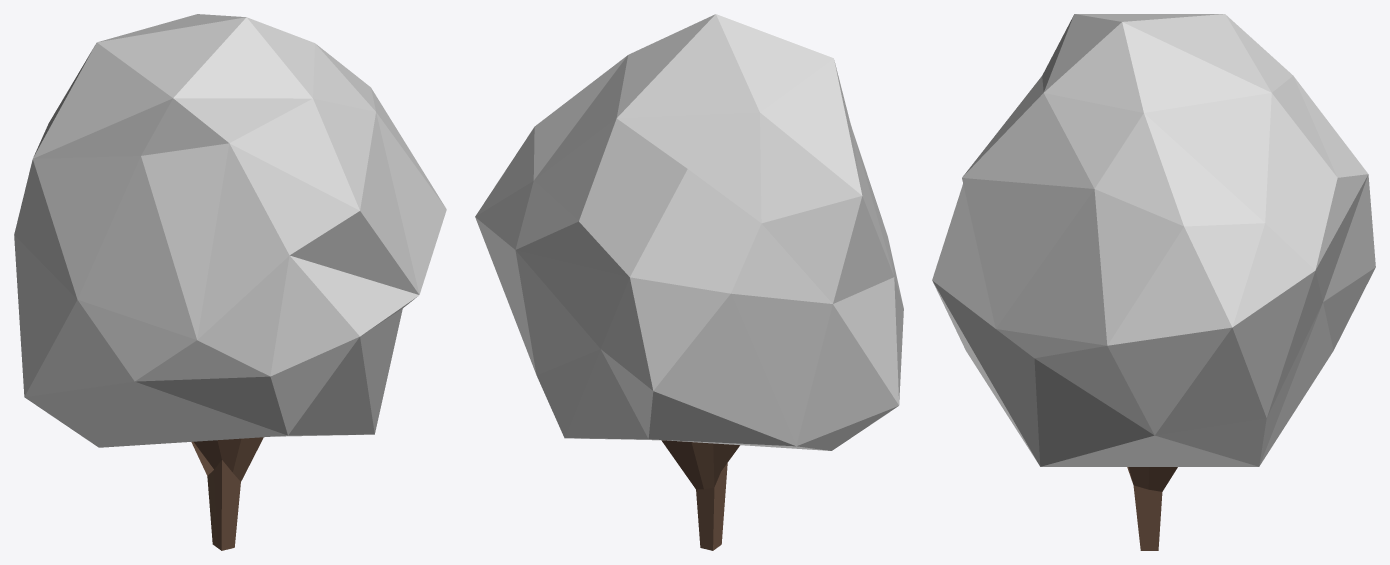
Rendered from Tree_21_White.fbx.
The picture shows the model from 3 angles, left to right: view 1: azimuth 30°, elevation 25°; view 2: azimuth 150°, elevation 25°; view 3: azimuth 270°, elevation 25°; orthographic projection. The views are drawn at different scales.
Parts seen in each view (by area): view 1: Tree_21_White_Part_1, Tree_21_White_Part_2; view 2: Tree_21_White_Part_1, Tree_21_White_Part_2; view 3: Tree_21_White_Part_1, Tree_21_White_Part_2.
Boxes of the visible parts, left/top/right/bottom form: Tree_21_White_Part_1: left=14, top=14, right=446, bottom=447; Tree_21_White_Part_2: left=191, top=437, right=263, bottom=550; Tree_21_White_Part_1: left=475, top=14, right=903, bottom=450; Tree_21_White_Part_2: left=661, top=440, right=739, bottom=550; Tree_21_White_Part_1: left=932, top=14, right=1375, bottom=466; Tree_21_White_Part_2: left=1127, top=467, right=1177, bottom=550.
Bounding box in the file's own units: 616 × 793 × 601.
